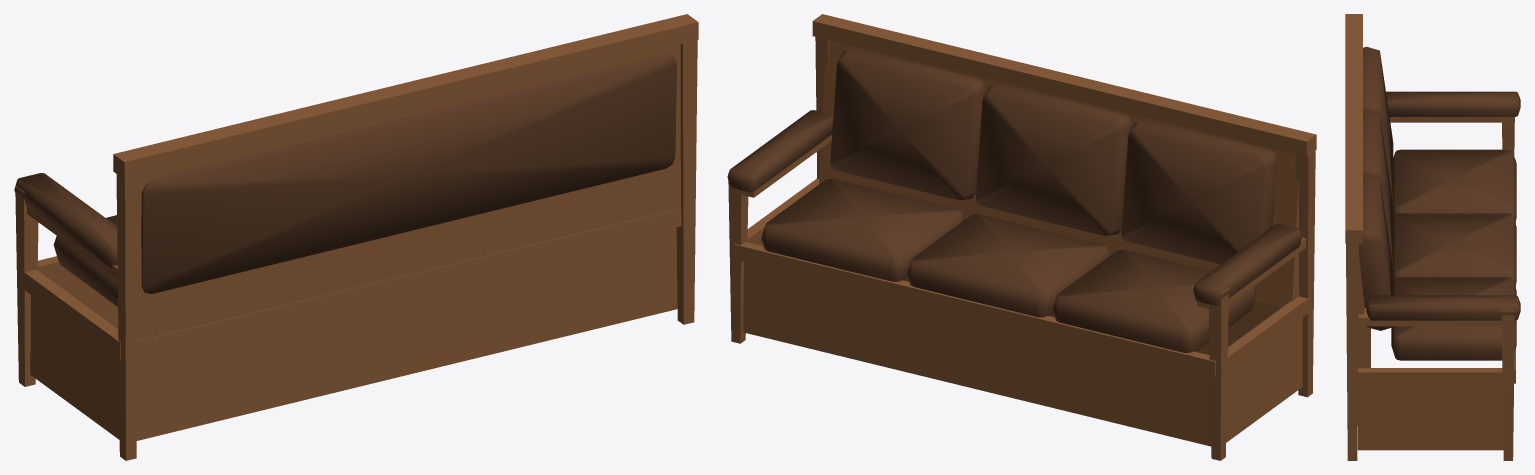
The model's file is parametric-settee-service.glb.
3 renders of one model, left to right at view 1: azimuth 30°, elevation 25°; view 2: azimuth 150°, elevation 25°; view 3: azimuth 270°, elevation 25°, orthographic. The views are drawn at different scales.
Parts seen in each view (by area): view 1: parametric-settee-service; view 2: parametric-settee-service; view 3: parametric-settee-service.
Part boxes in pixels (left/top/right/bottom): parametric-settee-service: left=14, top=14, right=698, bottom=460; parametric-settee-service: left=727, top=14, right=1316, bottom=460; parametric-settee-service: left=1345, top=14, right=1520, bottom=460.
Bounding box in the file's own units: 1.9 × 0.95 × 0.65.
